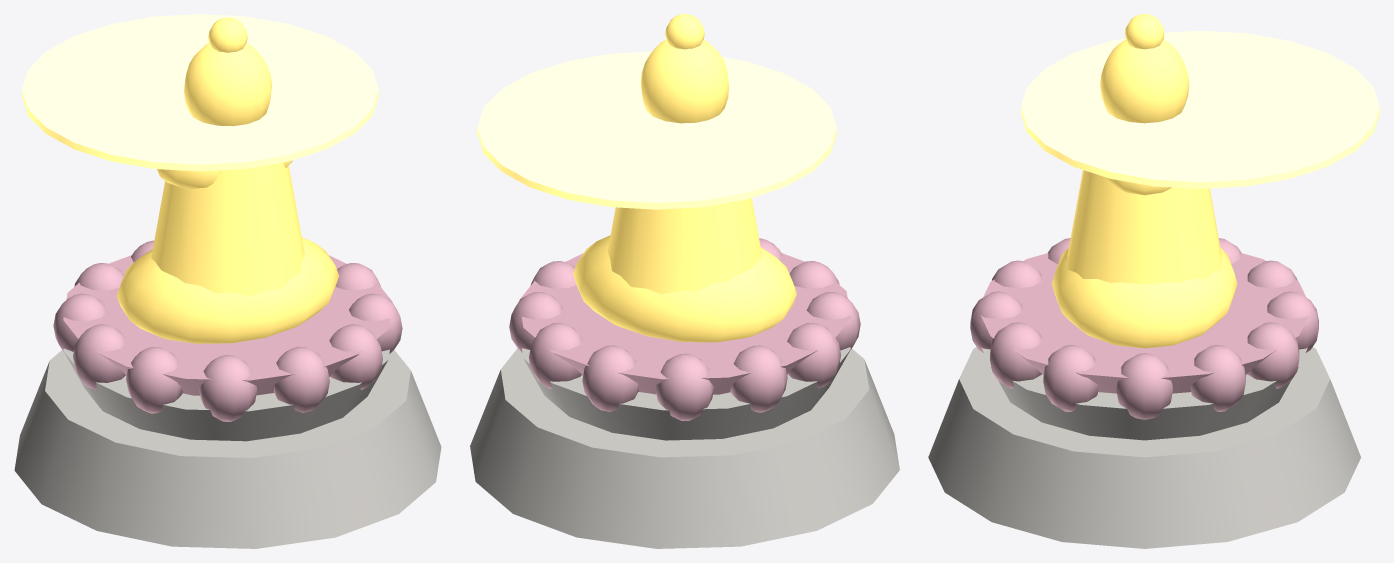
The model's file is buddha_statue.glb.
The picture shows the model from 3 angles, left to right: view 1: azimuth 30°, elevation 25°; view 2: azimuth 150°, elevation 25°; view 3: azimuth 270°, elevation 25°; orthographic projection.
Visible parts, largest first — view 1: GranitePedestal, RadiantHalo, GoldenBuddha, PinkLotusThrone; view 2: GranitePedestal, RadiantHalo, GoldenBuddha, PinkLotusThrone; view 3: GranitePedestal, RadiantHalo, GoldenBuddha, PinkLotusThrone.
Part boxes in pixels (left/top/right/bottom): GranitePedestal: left=14, top=348, right=441, bottom=548; RadiantHalo: left=22, top=14, right=378, bottom=171; GoldenBuddha: left=117, top=17, right=338, bottom=343; PinkLotusThrone: left=53, top=240, right=402, bottom=421; GranitePedestal: left=470, top=347, right=899, bottom=548; RadiantHalo: left=477, top=51, right=836, bottom=209; GoldenBuddha: left=573, top=14, right=796, bottom=342; PinkLotusThrone: left=509, top=238, right=860, bottom=420; GranitePedestal: left=928, top=347, right=1360, bottom=548; RadiantHalo: left=1021, top=30, right=1379, bottom=188; GoldenBuddha: left=1052, top=14, right=1237, bottom=348; PinkLotusThrone: left=970, top=238, right=1318, bottom=419.
Bounding box in the file's own units: 3.5 × 3.94 × 3.65.
